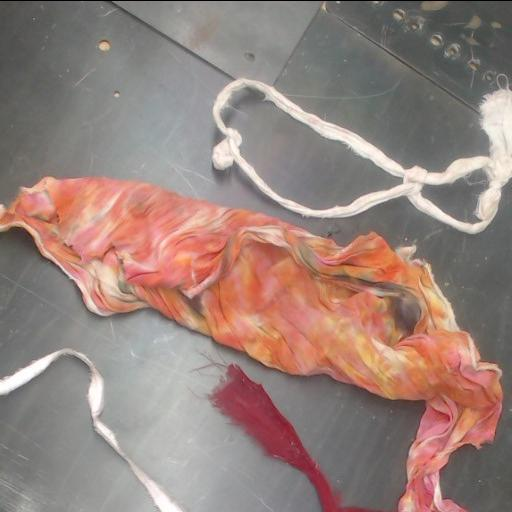cloth: (0, 177, 501, 512), (212, 78, 511, 233), (0, 348, 186, 512)
conveyor belt: (0, 1, 511, 512), (0, 229, 420, 512), (0, 357, 156, 512), (221, 89, 401, 209), (226, 90, 400, 206), (212, 163, 435, 243), (422, 171, 486, 221)
